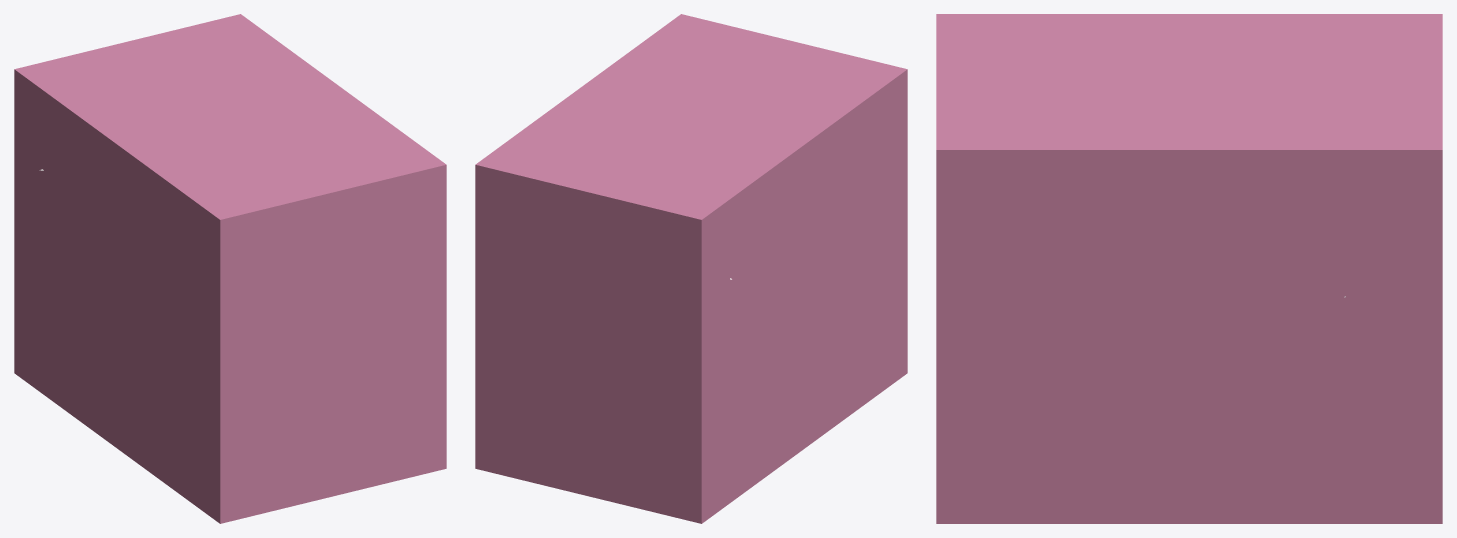
Rendered from tree_palm_overhang_a.dae.
3 renders of one model, left to right at view 1: azimuth 30°, elevation 25°; view 2: azimuth 150°, elevation 25°; view 3: azimuth 270°, elevation 25°, orthographic. The views are drawn at different scales.
Parts seen in each view (by area): view 1: Untitled; view 2: Untitled; view 3: Untitled.
Boxes of the visible parts, x1=… form: Untitled: x1=14, y1=14, x2=446, y2=523; Untitled: x1=475, y1=14, x2=907, y2=523; Untitled: x1=936, y1=14, x2=1442, y2=523.
Size of the model in its own units: 8.53 by 13.22 by 10.77.
